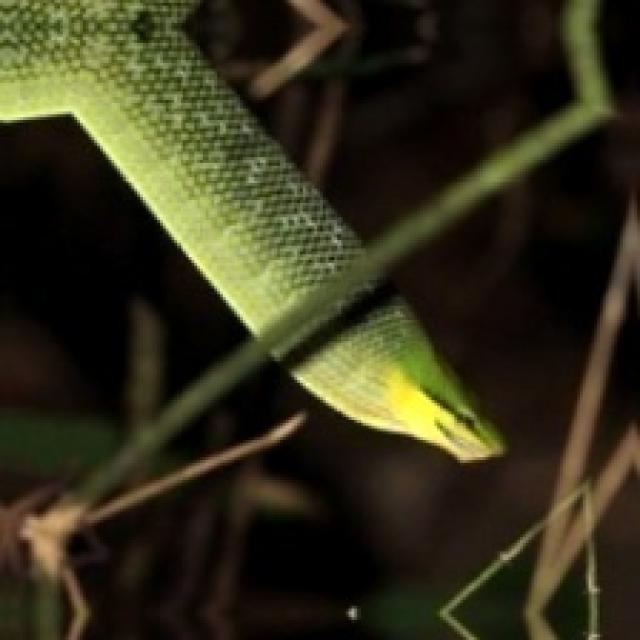red-tailed green ratsnake: (0, 0, 357, 331), (291, 297, 500, 460)
